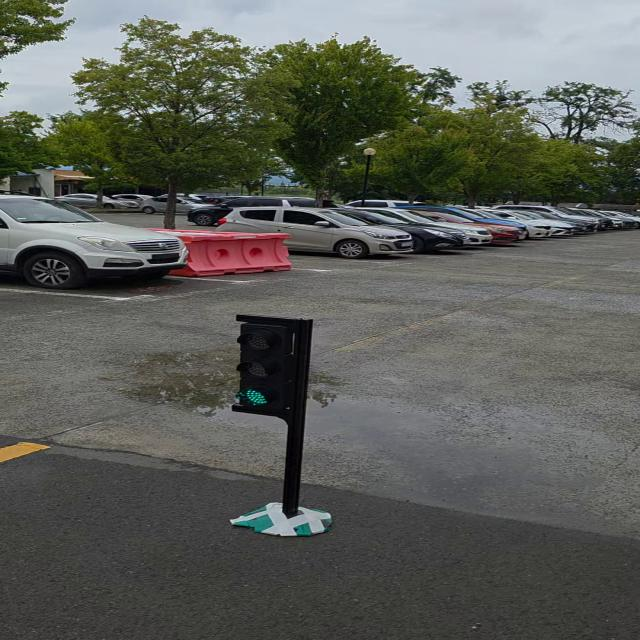green: (231, 316, 313, 413)
